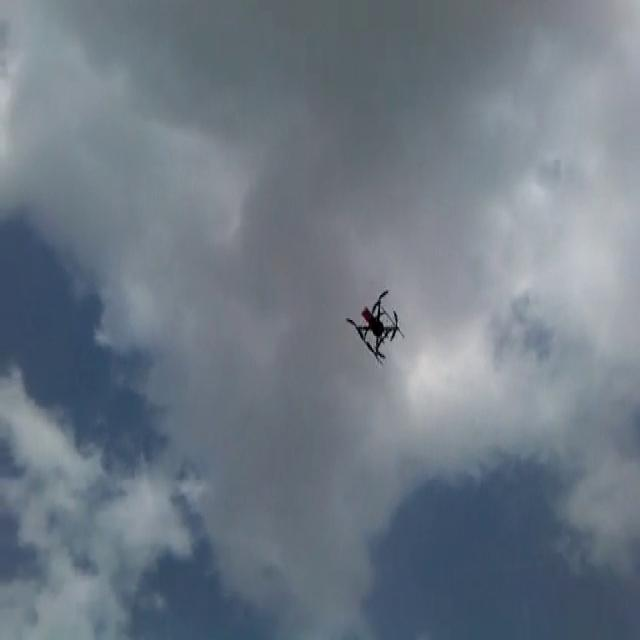drone: (345, 286, 405, 364)
